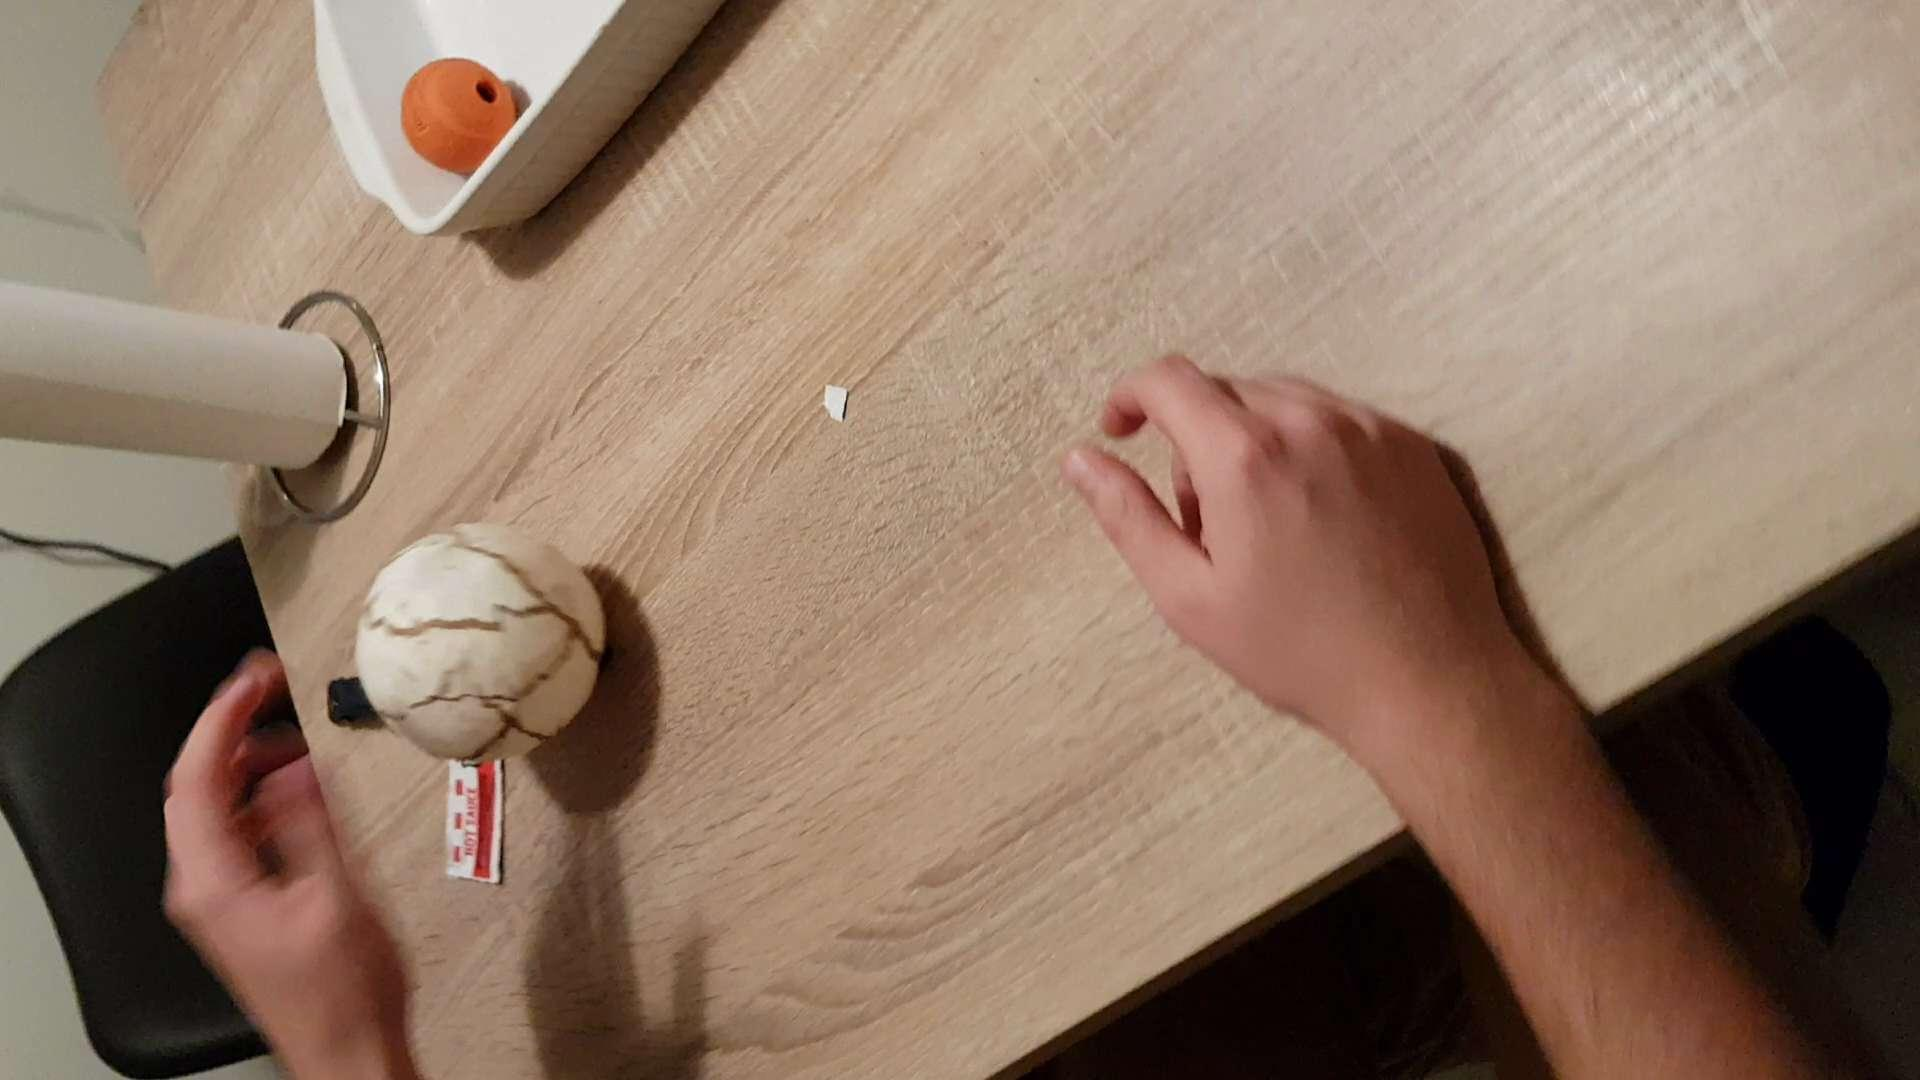Sphere: (384, 50, 527, 175)
sphere: (349, 526, 607, 760)
